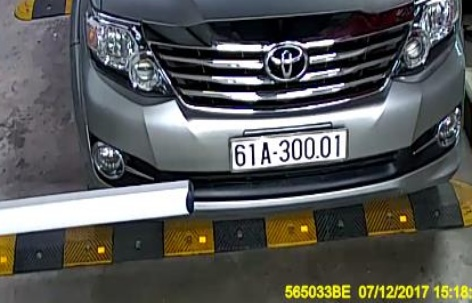plate: (219, 118, 360, 176)
